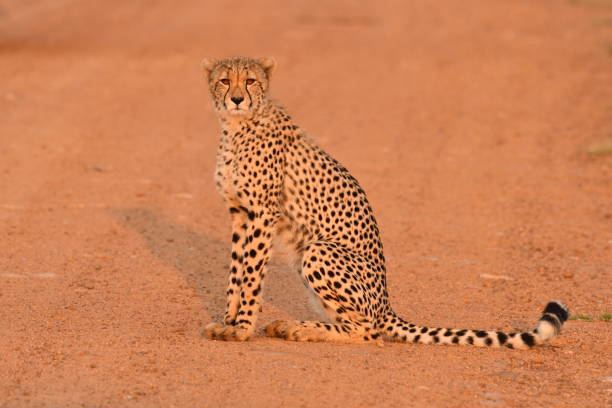cheetah: (195, 49, 286, 124)
